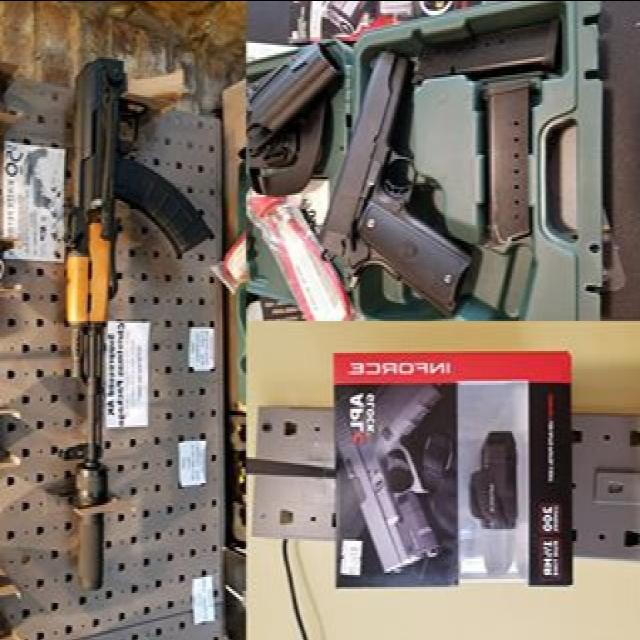handgun: (327, 49, 469, 319), (333, 385, 458, 577)
rifle: (52, 45, 212, 593)
